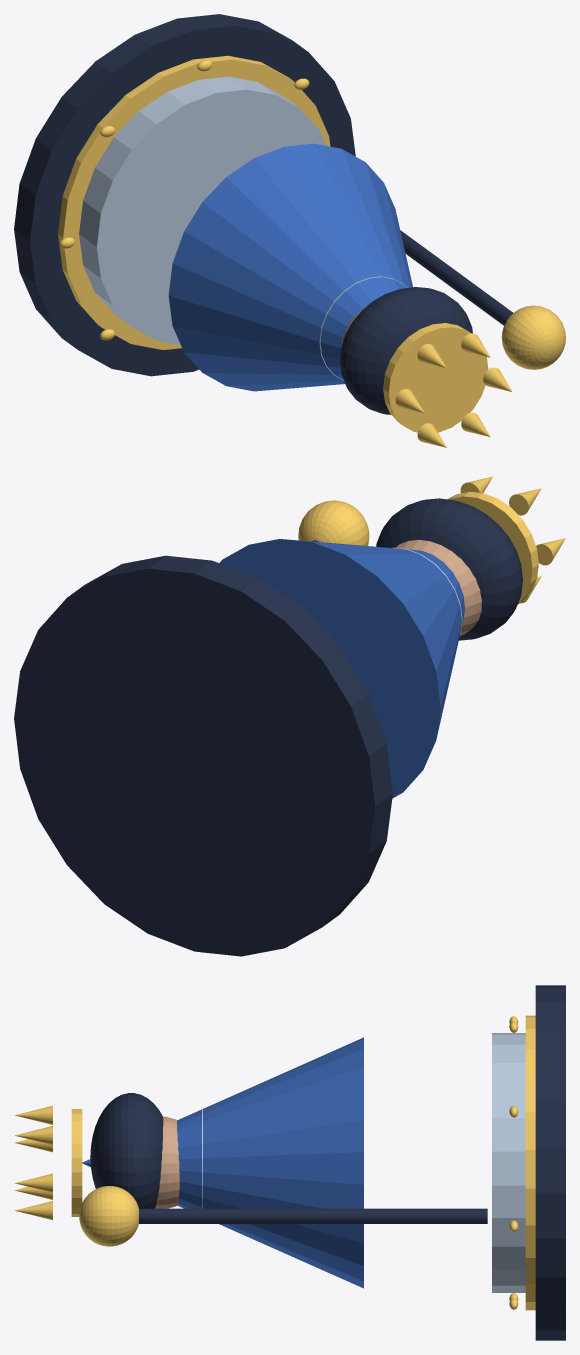
Rendered from hero_queen.glb.
The picture shows the model from 3 angles, top to bottom: view 1: azimuth 30°, elevation 25°; view 2: azimuth 150°, elevation 25°; view 3: azimuth 270°, elevation 25°; orthographic projection. The views are drawn at different scales.
Visible parts, largest first — view 1: gown, base2, base, ring1, crownband, hair, orb, staff; view 2: base, gown, hair, crownband, orb, head; view 3: gown, base, base2, hair, staff, ring1, orb, head, crownband.
Part boxes in pixels (x1,y1,x2,y2): gown: [168, 143, 412, 391]; base2: [79, 76, 326, 345]; base: [14, 14, 355, 376]; ring1: [58, 55, 330, 349]; crownband: [383, 323, 488, 432]; hair: [340, 287, 472, 414]; orb: [501, 305, 565, 369]; staff: [400, 230, 512, 325]; base: [14, 555, 392, 956]; gown: [219, 539, 464, 798]; hair: [376, 498, 522, 640]; crownband: [447, 491, 538, 604]; orb: [298, 500, 369, 545]; head: [395, 539, 481, 635]; gown: [82, 1037, 363, 1288]; base: [535, 985, 565, 1340]; base2: [492, 1033, 525, 1292]; hair: [90, 1093, 163, 1208]; staff: [139, 1208, 487, 1223]; ring1: [525, 1015, 535, 1310]; orb: [79, 1186, 138, 1246]; head: [155, 1116, 179, 1208]; crownband: [71, 1109, 82, 1216].
Bounding box in the file's own units: 1.64 × 1.64 × 2.54.
